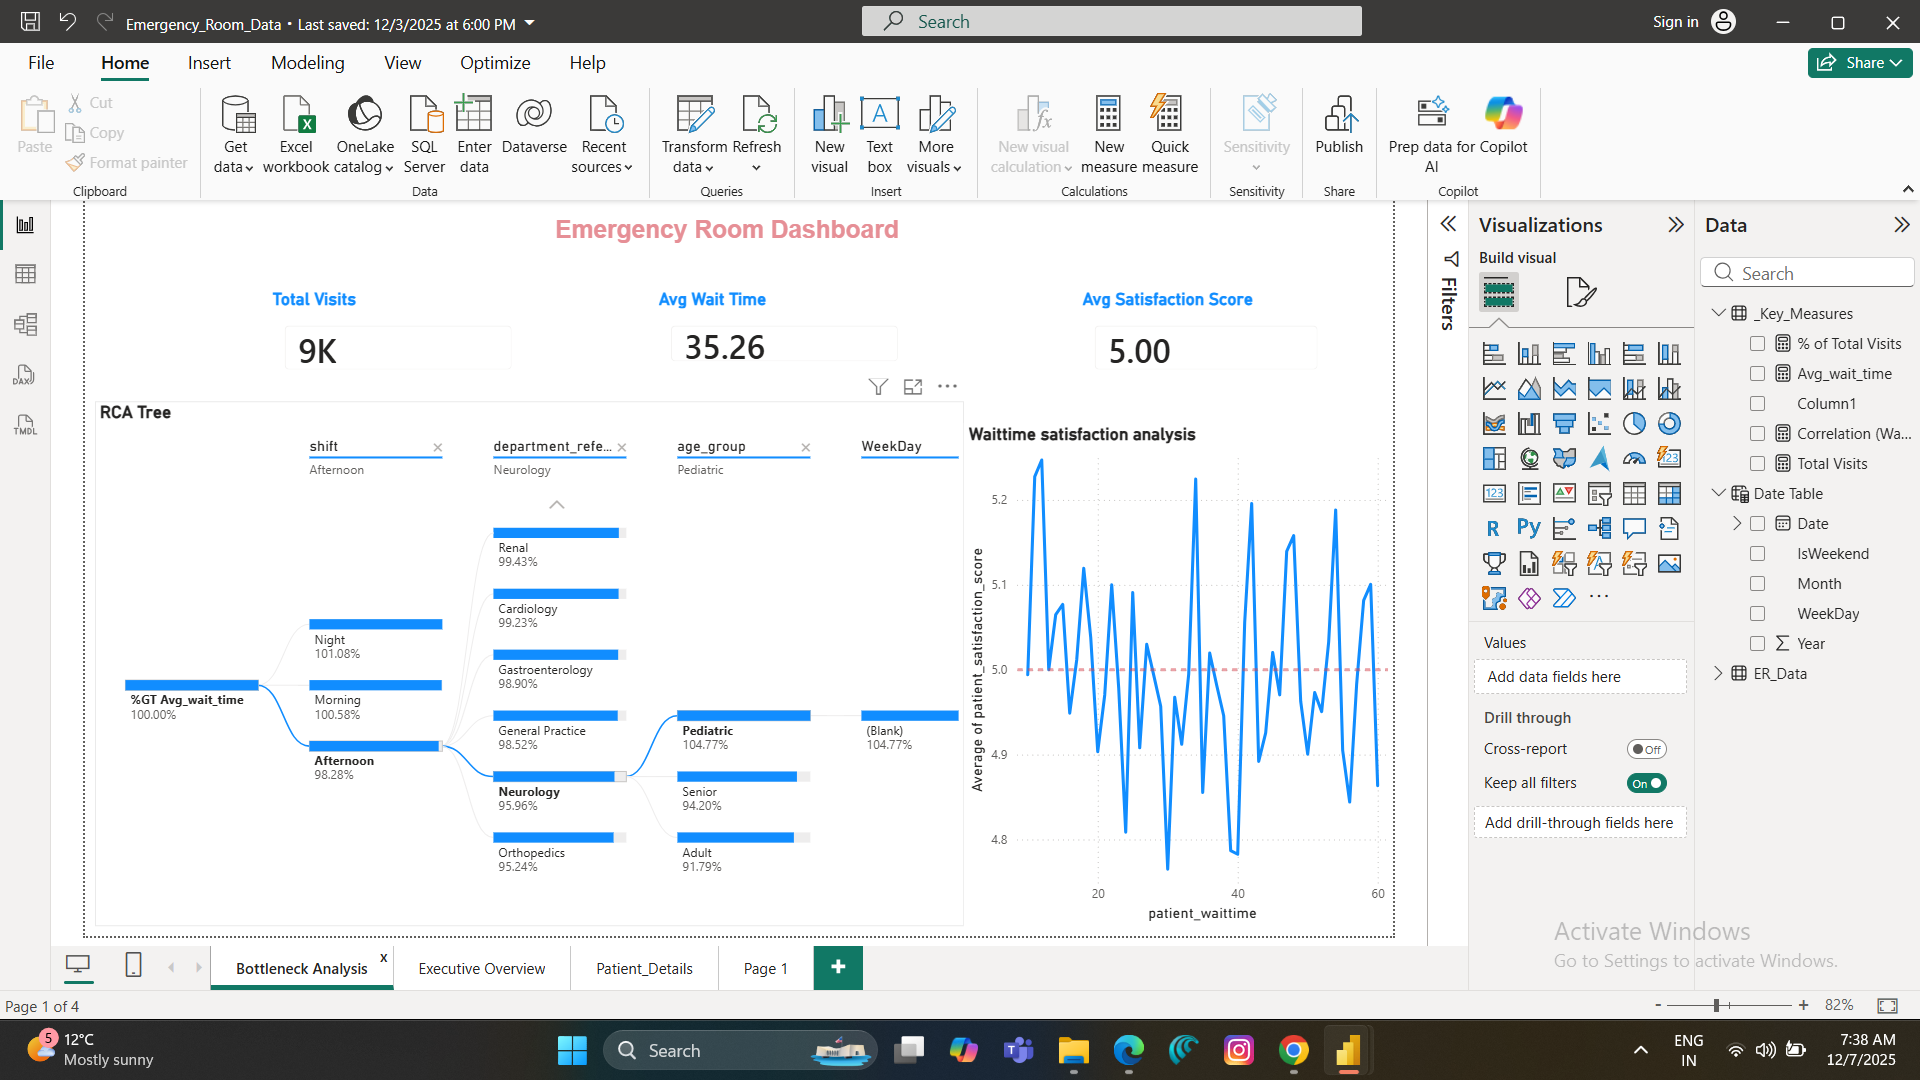

This screenshot's page, from the dashboard's own definition file:
{"tool":"powerbi","page":{"name":"Bottleneck Analysis","canvas":[1280,720],"ordinal":0},"visuals":[{"type":"decompositionTreeVisual","title":"RCA Tree","fields":{"Analyze":["_Key_Measures.Avg_wait_time"],"ExplainBy":["ER_Data.shift","ER_Data.department_referral","ER_Data.age_group","Date Table.WeekDay"]},"box":[9.9,196.4,850.2,514.6],"z":0},{"type":"lineChart","title":"Waittime satisfaction analysis","fields":{"Category":["ER_Data.patient_waittime"],"Y":["Avg(ER_Data.patient_satisfaction_score)"]},"box":[860.1,218.8,420.1,492.2],"z":1000},{"type":"cardVisual","title":"Total Visits","fields":{"Data":["_Key_Measures.Total Visits"]},"box":[179,87,256.1,97],"z":2000},{"type":"cardVisual","title":"Avg Satisfaction Score","fields":{"Data":["Avg(ER_Data.patient_satisfaction_score)"]},"box":[970.8,87,252.3,97],"z":3000},{"type":"cardVisual","title":"Avg Wait Time","fields":{"Data":["_Key_Measures.Avg_wait_time"]},"box":[556.8,87,256.1,88.3],"z":4000},{"type":"textbox","box":[454.9,11.2,358,53.4],"z":5000}]}

Visuals, with their boxes on the page's 1280x720 design canvas (x1, y1, x2, y2). These are canvas units, not pixel positions in the 1920x1080 screenshot, which may show the page scaled, cropped or inside an application window:
"RCA Tree" decompositionTreeVisual: box(10, 196, 860, 711)
"Waittime satisfaction analysis" lineChart: box(860, 219, 1280, 711)
"Total Visits" cardVisual: box(179, 87, 435, 184)
"Avg Satisfaction Score" cardVisual: box(971, 87, 1223, 184)
"Avg Wait Time" cardVisual: box(557, 87, 813, 175)
textbox: box(455, 11, 813, 65)
